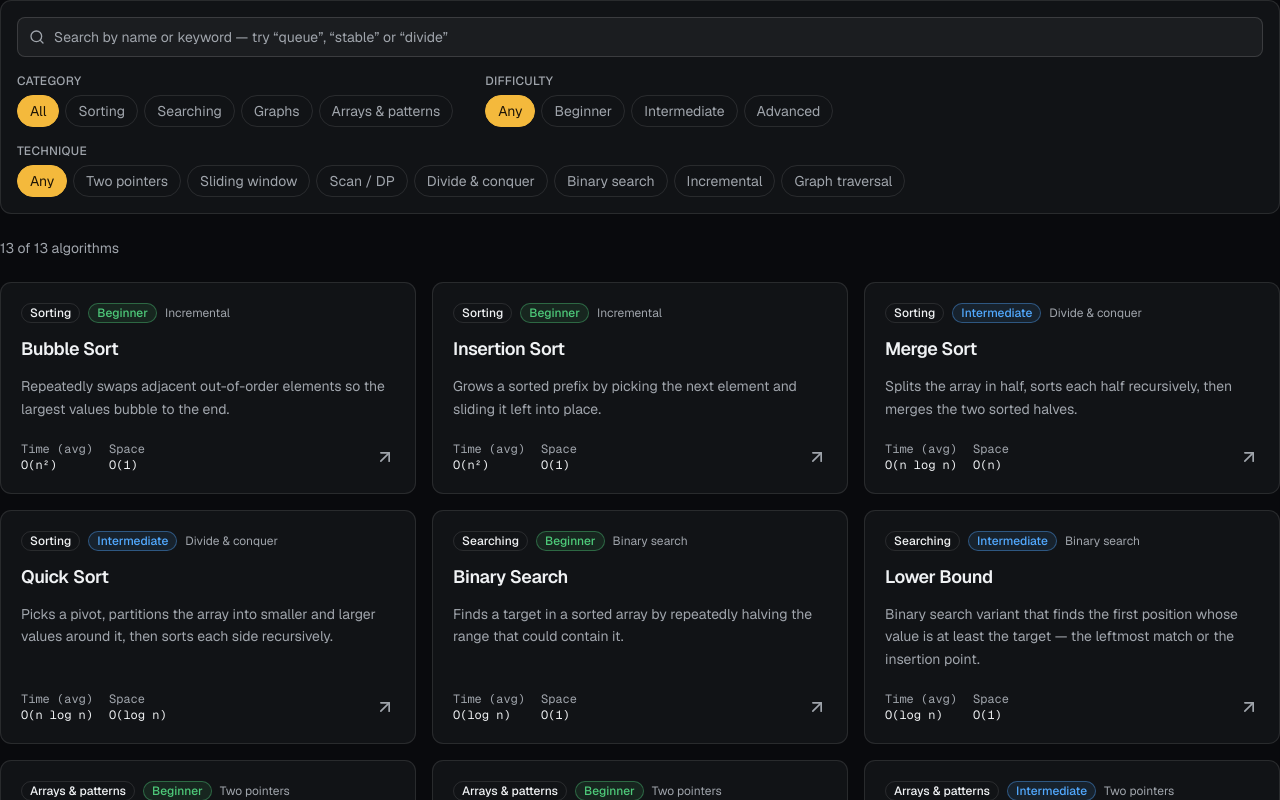
Test case: explorer technique filter › filters by technique and combines with category
This screenshot has width=1280, height=800.
Click the button "Sliding window". click: (249, 181)
box: x1=187 y1=165 x2=310 y2=197
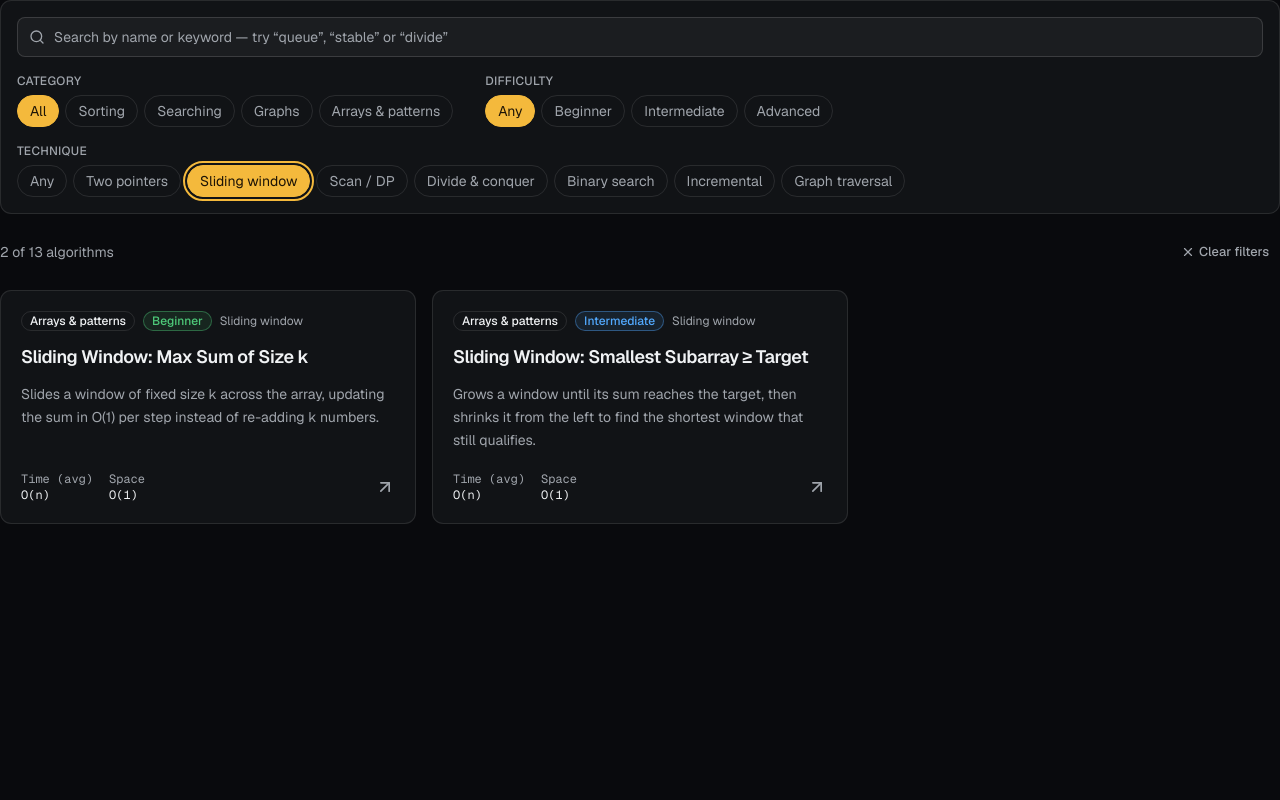
Now the message with test id "result-count" shows "2 of 13", box x1=0 y1=242 x2=114 y2=262
Click the button "Two pointers". click: (127, 181)
box: x1=73 y1=165 x2=181 y2=197
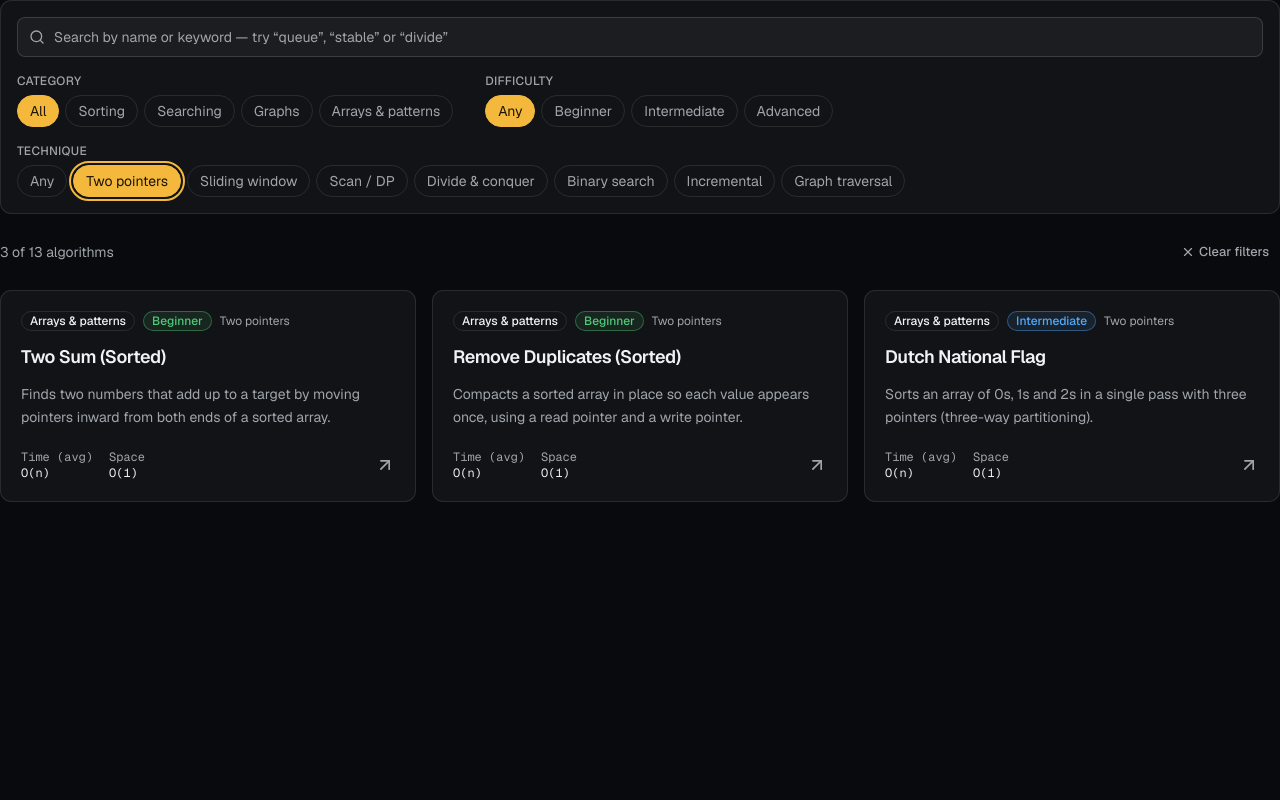
Now the message with test id "result-count" shows "3 of 13", box x1=0 y1=242 x2=114 y2=262
Click the button "Sorting". click: (102, 111)
box: x1=65 y1=95 x2=138 y2=127
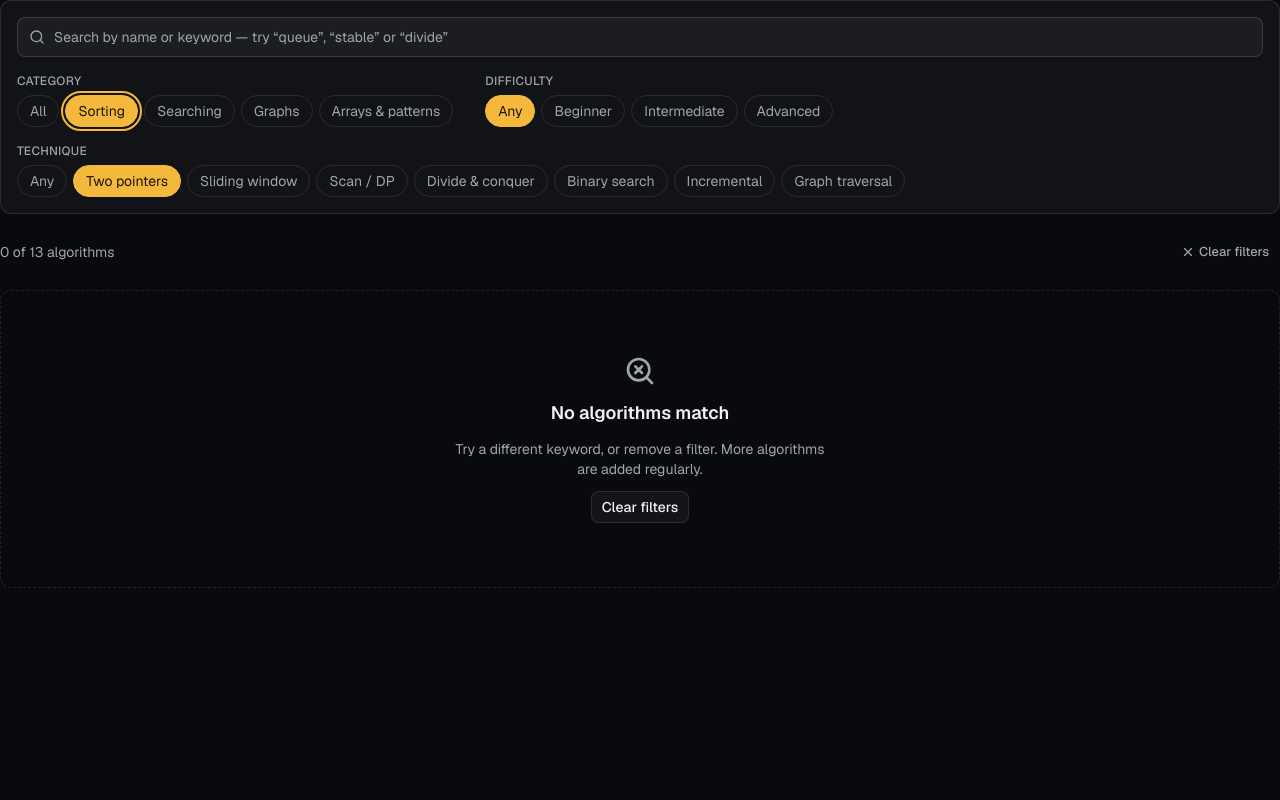
Now the message with test id "result-count" shows "0 of 13", box x1=0 y1=242 x2=114 y2=262
Now the heading "No algorithms match" is shown, box x1=551 y1=399 x2=729 y2=427
